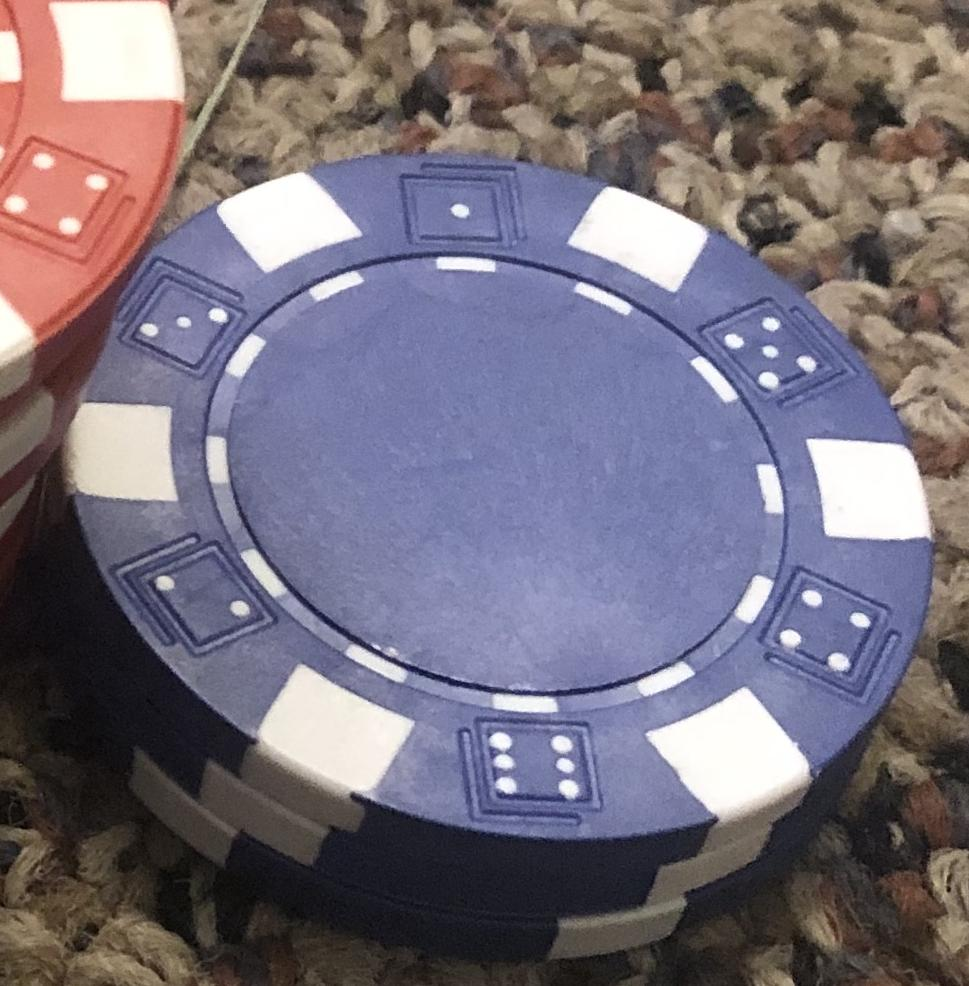Chip: (2, 1, 969, 986)
